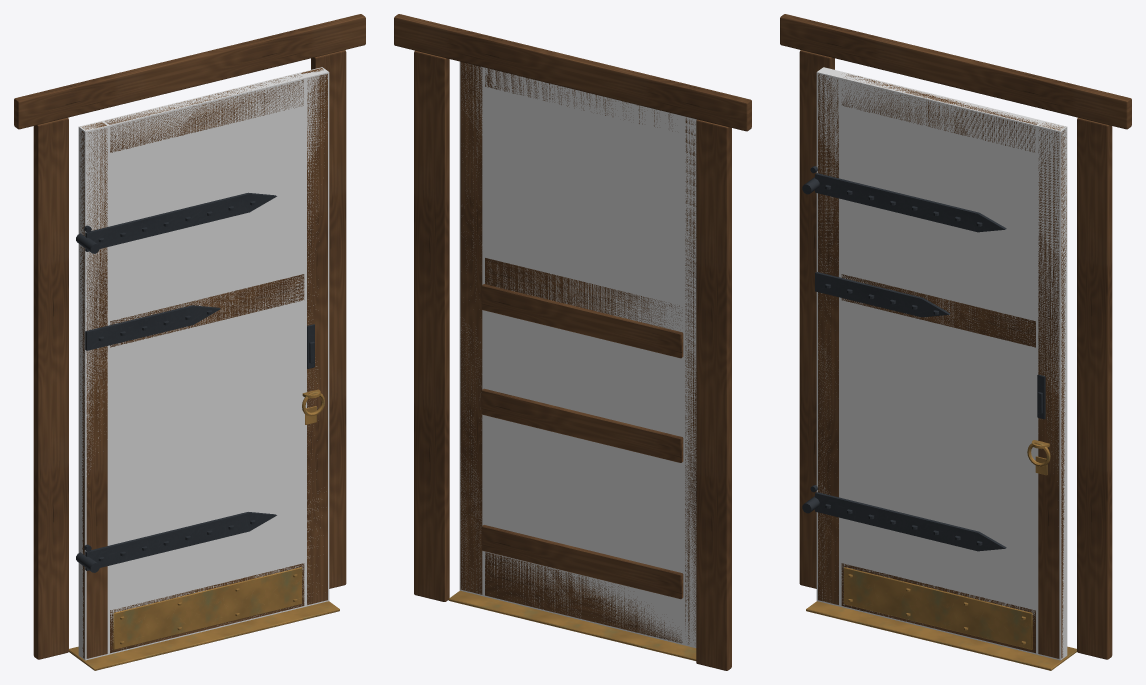
Rendered from settlement_inn_door_side.gltf.
3 renders of one model, left to right at view 1: azimuth 30°, elevation 25°; view 2: azimuth 150°, elevation 25°; view 3: azimuth 330°, elevation 25°, orthographic.
Parts seen in each view (by area): view 1: settlement_inn_door_side_leaf_col, settlement_inn_door_side_leaf_LOD0, settlement_inn_door_side_LOD0; view 2: settlement_inn_door_side_leaf_col, settlement_inn_door_side_LOD0, settlement_inn_door_side_leaf_LOD0; view 3: settlement_inn_door_side_leaf_col, settlement_inn_door_side_leaf_LOD0, settlement_inn_door_side_LOD0.
Boxes of the visible parts, <box> form: settlement_inn_door_side_leaf_col: <box>78,67,329,660</box>; settlement_inn_door_side_leaf_LOD0: <box>76,68,327,658</box>; settlement_inn_door_side_LOD0: <box>14,14,365,670</box>; settlement_inn_door_side_leaf_col: <box>459,61,696,647</box>; settlement_inn_door_side_LOD0: <box>394,14,751,670</box>; settlement_inn_door_side_leaf_LOD0: <box>460,62,696,644</box>; settlement_inn_door_side_leaf_col: <box>816,67,1067,660</box>; settlement_inn_door_side_leaf_LOD0: <box>802,73,1066,658</box>; settlement_inn_door_side_LOD0: <box>780,14,1131,670</box>.
Size of what is drawn, in the model's own units: 1.77 by 2.74 by 0.265.
Materials: 4 (4 with a texture image).
